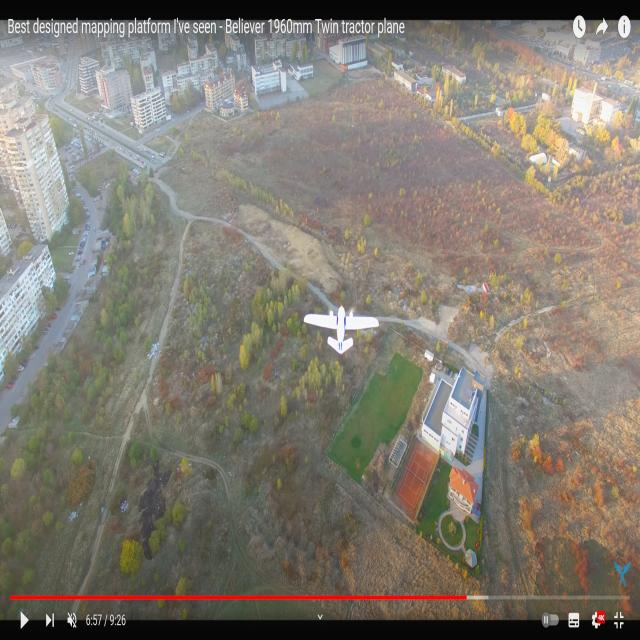iha: (336, 296, 349, 351)
